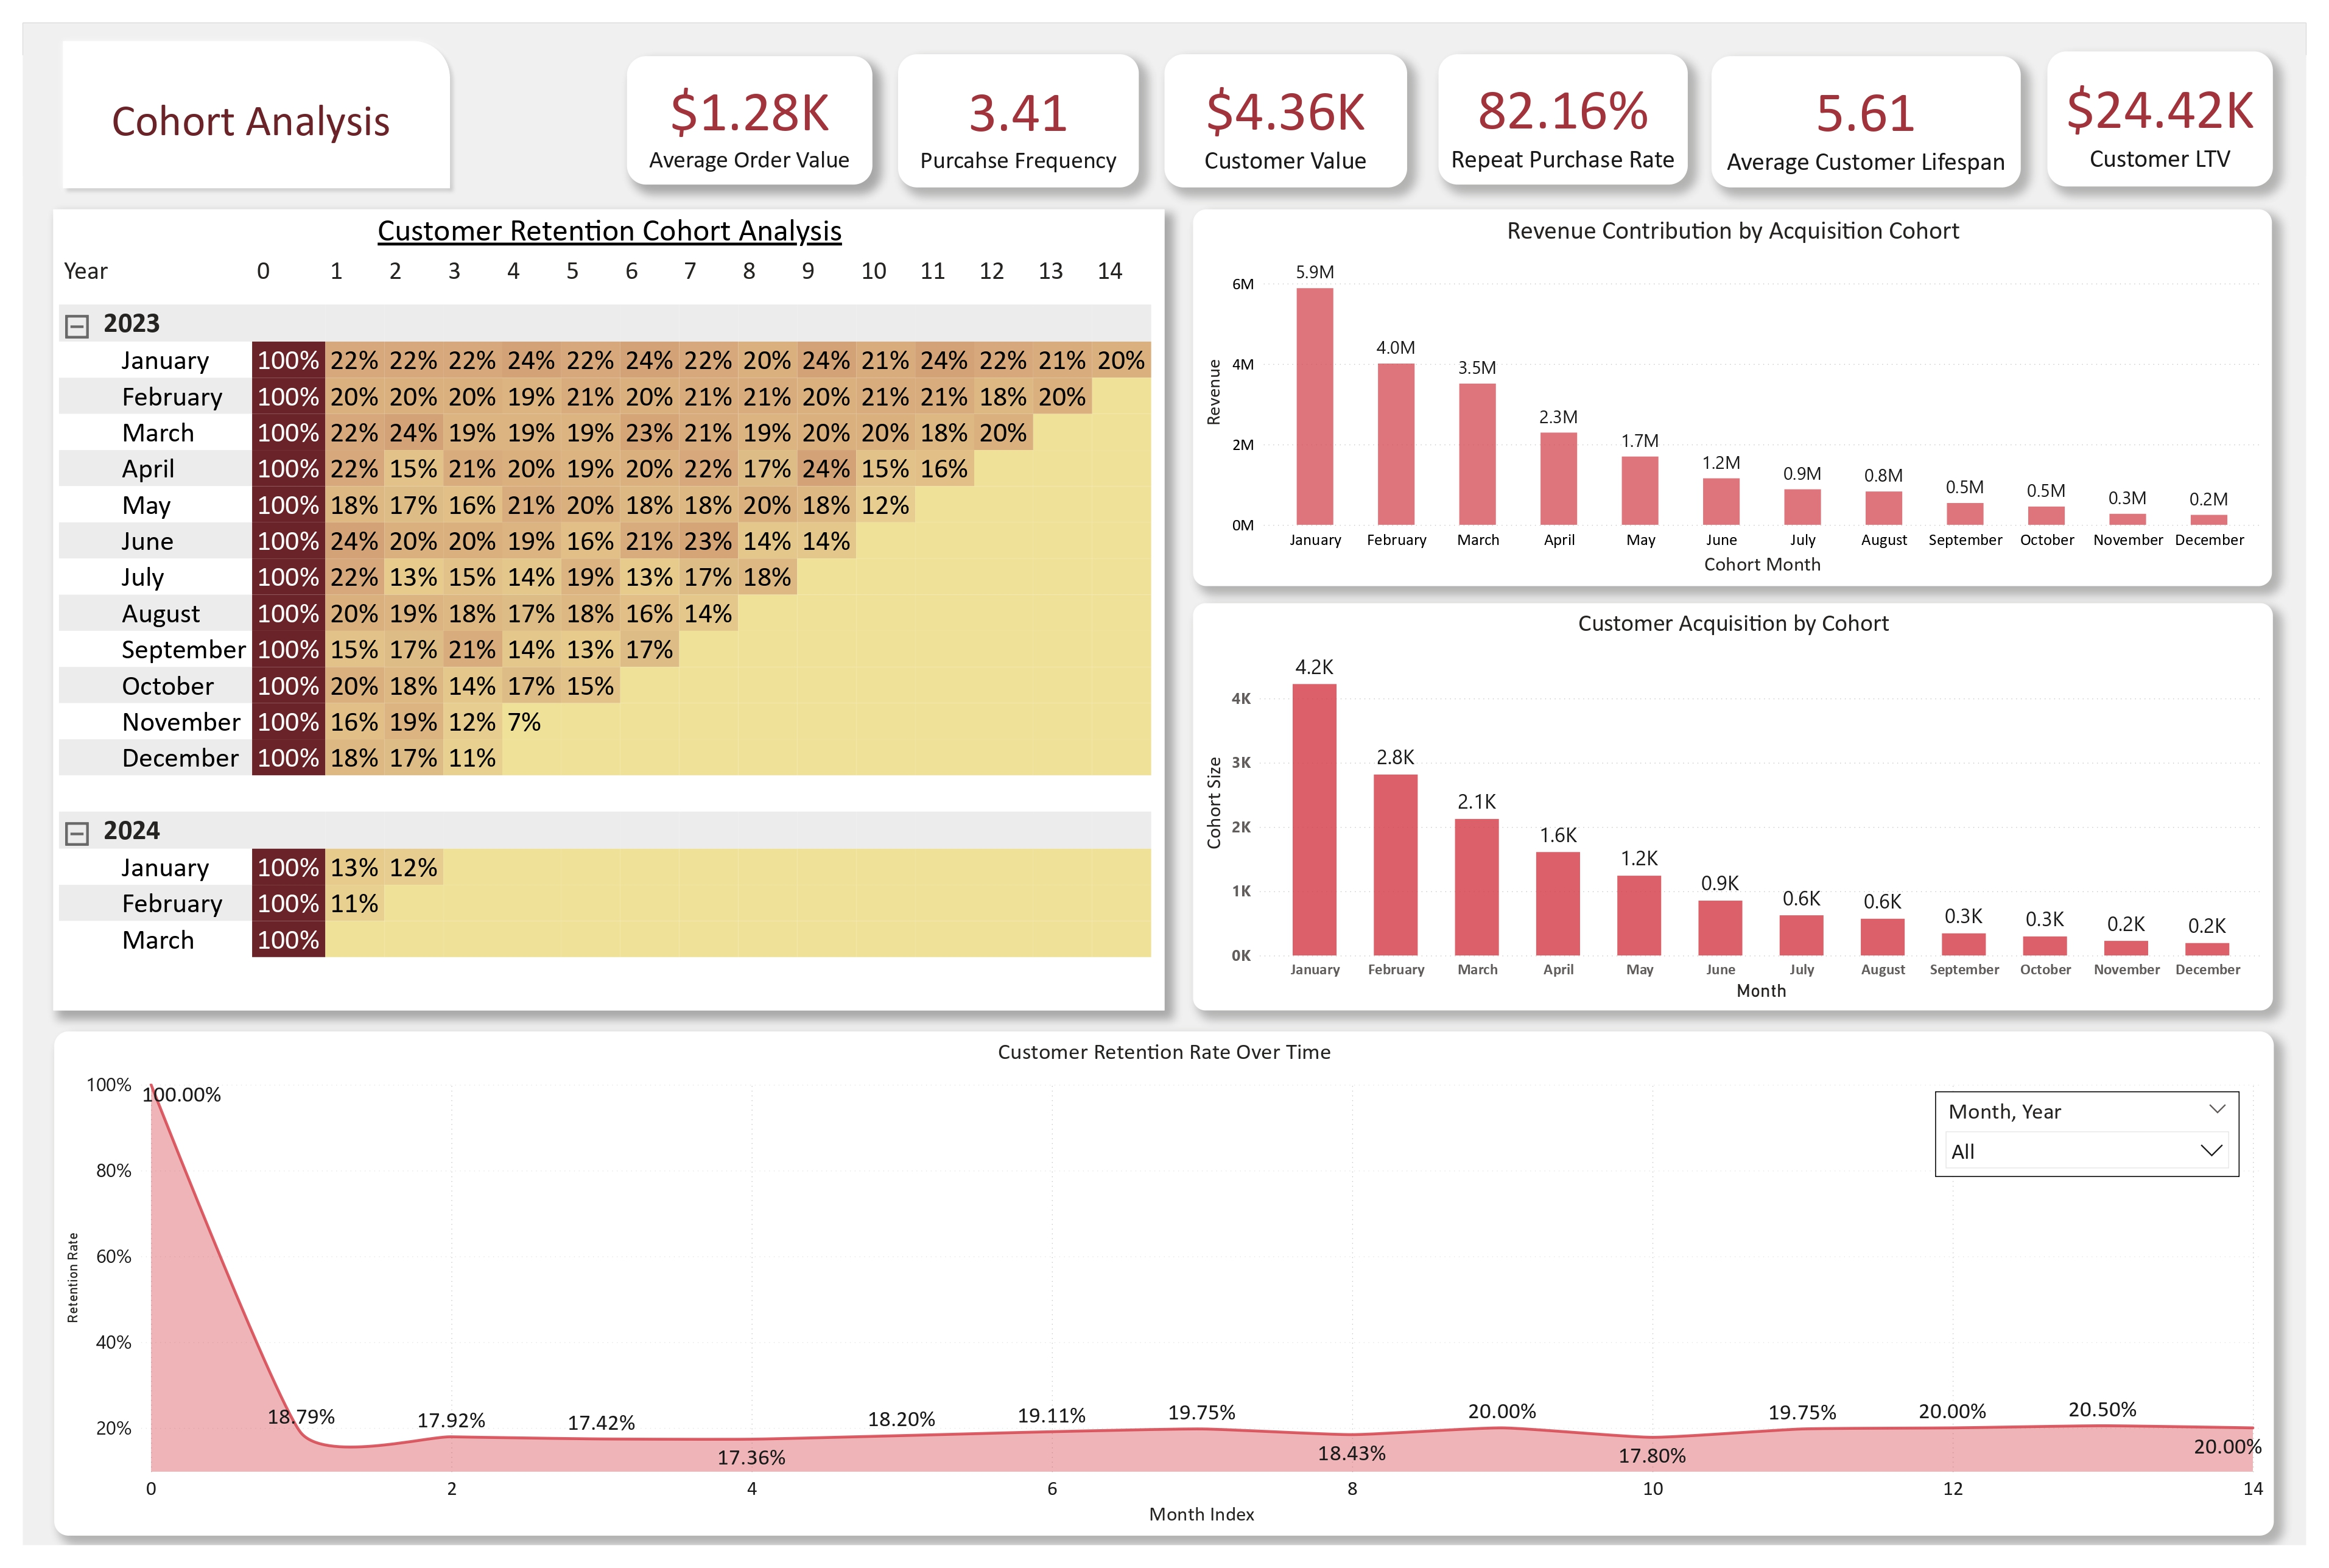

This screenshot's page, from the dashboard's own definition file:
{"tool":"powerbi","page":{"name":"Page 2","canvas":[2400,1600],"ordinal":1},"visuals":[{"type":"pivotTable","title":"Customer Retention Cohort Analysis","fields":{"Rows":["Retention_Table.cohort_month.Variation.Date Hierarchy.Year","Retention_Table.cohort_month.Variation.Date Hierarchy.Month"],"Columns":["Retention_Table.month_number"],"Values":["Sum(Retention_Table.retention_rate)"]},"box":[32,196,1168,842],"z":0},{"type":"card","fields":{"Values":["customer_master.Repeat Purchase Rate"]},"box":[1487.5,32.5,262.5,137.5],"z":1000},{"type":"card","fields":{"Values":["clean_transactions.Purcahse Frequency"]},"box":[920,32.5,252.5,140],"z":2000},{"type":"card","fields":{"Values":["clean_transactions.Average Order Value"]},"box":[635,35,257.5,135],"z":3000},{"type":"card","fields":{"Values":["clean_transactions.Customer Value"]},"box":[1200,32.5,255,140],"z":4000},{"type":"card","fields":{"Values":["clean_transactions.Average Customer Lifespan"]},"box":[1775,35,325,137.5],"z":5000},{"type":"card","fields":{"Values":["clean_transactions.Customer LTV"]},"box":[2128.3,30,236.7,141.7],"z":6000},{"type":"lineChart","title":"Customer Retention Rate Over Time","fields":{"Category":["Retention_Table.month_number"],"Y":["Avg(Retention_Table.retention_rate)"]},"box":[32.9,1060,2332.9,530],"z":7000},{"type":"slicer","fields":{"Values":["Retention_Table.cohort_month.Variation.Date Hierarchy.Month","Retention_Table.cohort_month.Variation.Date Hierarchy.Year"]},"box":[2010,1122.5,320,90],"z":8000},{"type":"columnChart","title":"Revenue Contribution by Acquisition Cohort","fields":{"Y":["Sum(customer_monthly_activity.monthly_revenue)"],"Category":["customer_monthly_activity.cohort_month.Variation.Date Hierarchy.Month"]},"box":[1230,196,1134,396],"z":9000},{"type":"shape","box":[32.5,10,425,172.5],"z":10000},{"type":"columnChart","title":"Customer Acquisition by Cohort","fields":{"Y":["Sum(Retention_Table.active_users)"],"Category":["Retention_Table.cohort_month.Variation.Date Hierarchy.Month"]},"box":[1230,610,1135,427.5],"z":11000}]}

Visuals, with their boxes on the page's 2400x1600 design canvas (x1, y1, x2, y2). These are canvas units, not pixel positions in the 2329x1568 screenshot, which may show the page scaled, cropped or inside an application window:
"Customer Retention Cohort Analysis" pivotTable: bbox=(32, 196, 1200, 1038)
card - customer_master.Repeat Purchase Rate: bbox=(1488, 32, 1750, 170)
card - clean_transactions.Purcahse Frequency: bbox=(920, 32, 1172, 172)
card - clean_transactions.Average Order Value: bbox=(635, 35, 892, 170)
card - clean_transactions.Customer Value: bbox=(1200, 32, 1455, 172)
card - clean_transactions.Average Customer Lifespan: bbox=(1775, 35, 2100, 172)
card - clean_transactions.Customer LTV: bbox=(2128, 30, 2365, 172)
"Customer Retention Rate Over Time" lineChart: bbox=(33, 1060, 2366, 1590)
slicer - Retention_Table.cohort_month.Variation.Date Hierarchy.Month x Retention_Table.cohort_month.Variation.Date Hierarchy.Year: bbox=(2010, 1122, 2330, 1212)
"Revenue Contribution by Acquisition Cohort" columnChart: bbox=(1230, 196, 2364, 592)
shape: bbox=(32, 10, 458, 182)
"Customer Acquisition by Cohort" columnChart: bbox=(1230, 610, 2365, 1038)
